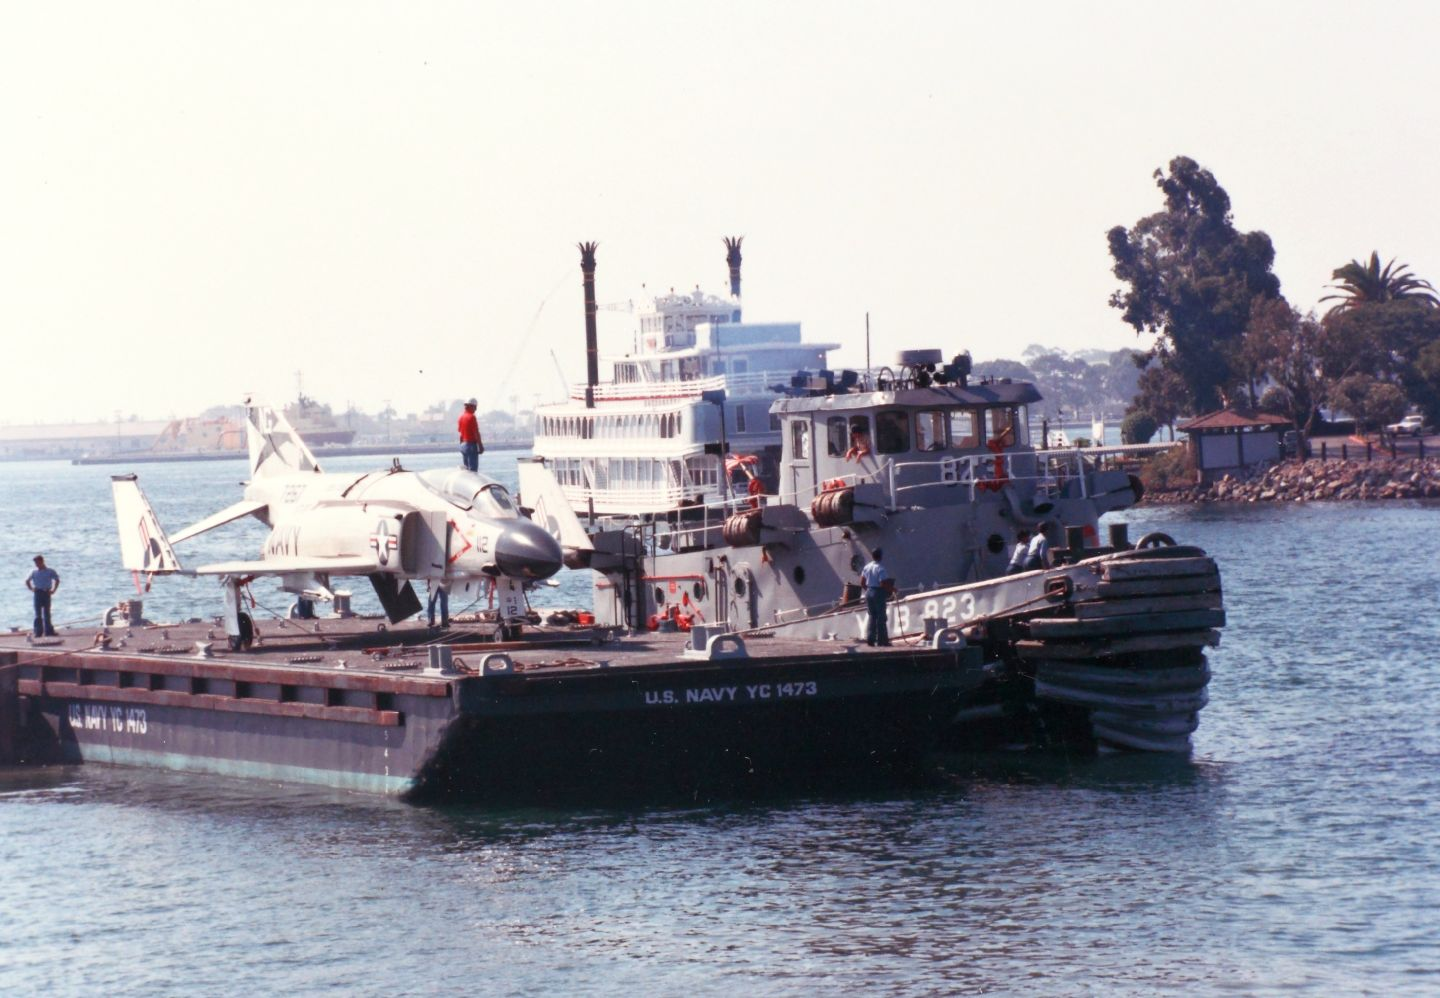F4: (108, 387, 595, 651)
